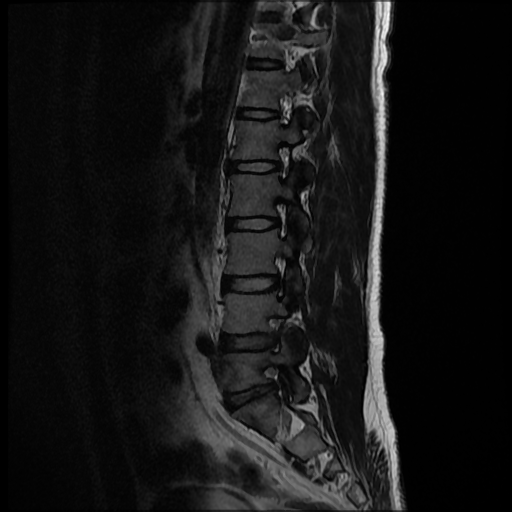LFS0: (265, 189, 298, 245), (266, 137, 301, 187)
LFS1: (262, 248, 293, 307)
LFS2: (252, 305, 289, 361)
